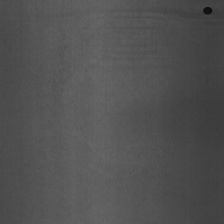punching_hole: (202, 4, 213, 17)
